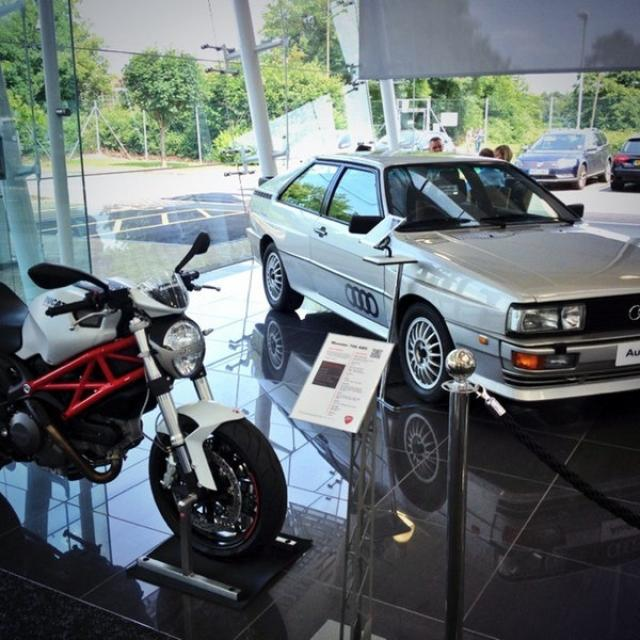body: (465, 147, 506, 203), (463, 125, 485, 151), (493, 143, 514, 163), (426, 134, 444, 152), (351, 140, 374, 154)
